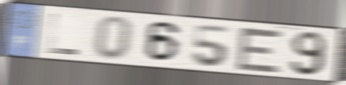0: (90, 15, 137, 62)
5: (191, 23, 230, 69)
6: (142, 20, 182, 64)
9: (288, 30, 331, 77)
E: (234, 25, 286, 75)
L: (44, 12, 80, 57)
